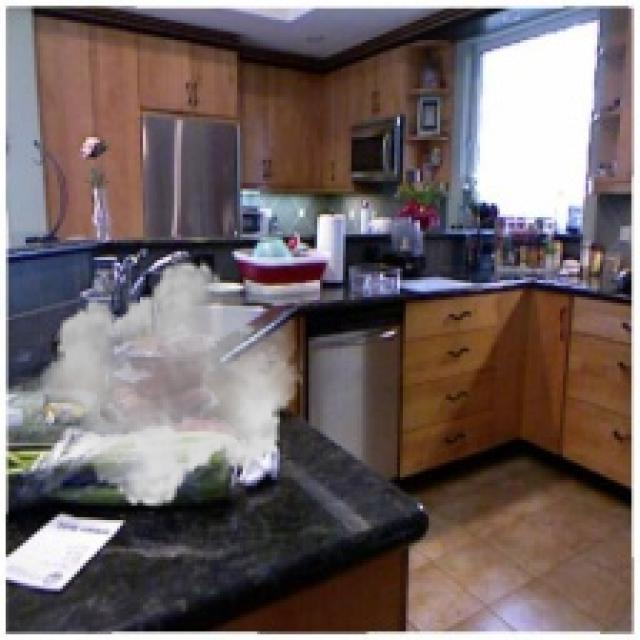Smoke: (34, 252, 303, 517)
